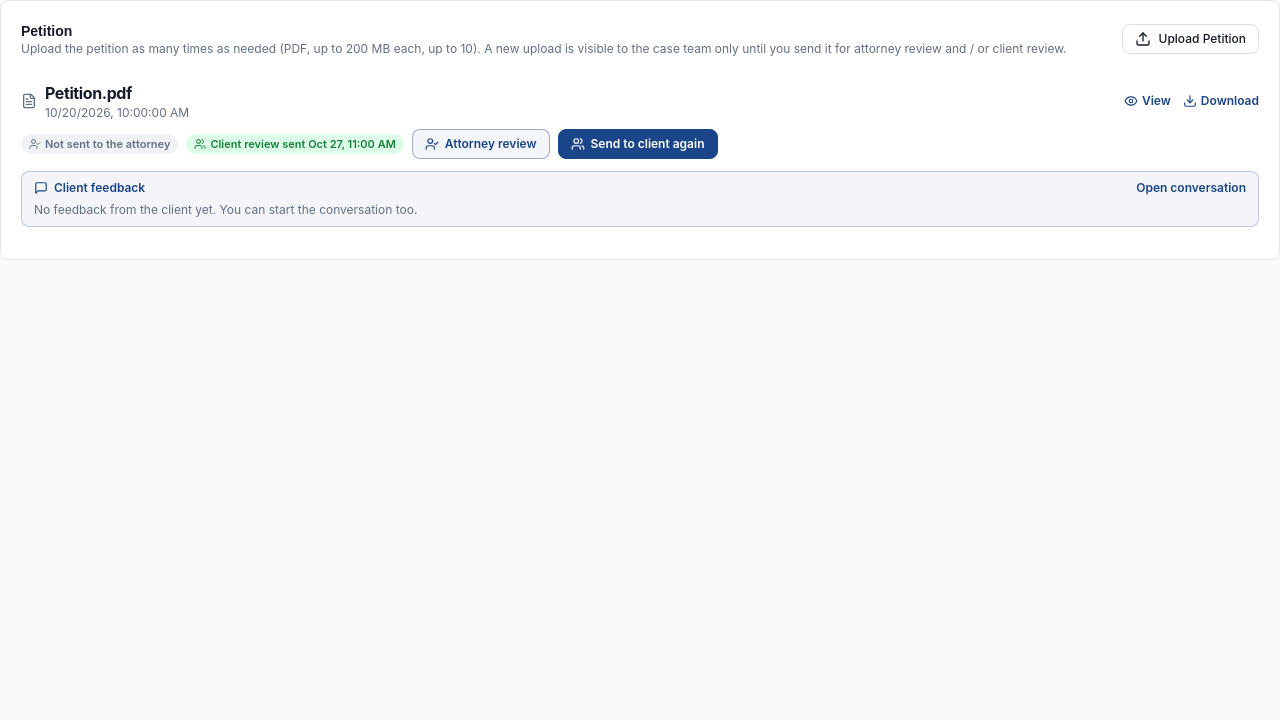
Test: PetitionUploadPanel › a client's message arriving live refreshes the row and appears in the open conversation
The image size is (1280, 720).
Step 1. Click the button with aria-label "Open the feedback conversation for Petition.pdf" → [100, 188], box x1=21 y1=171 x2=1259 y2=227
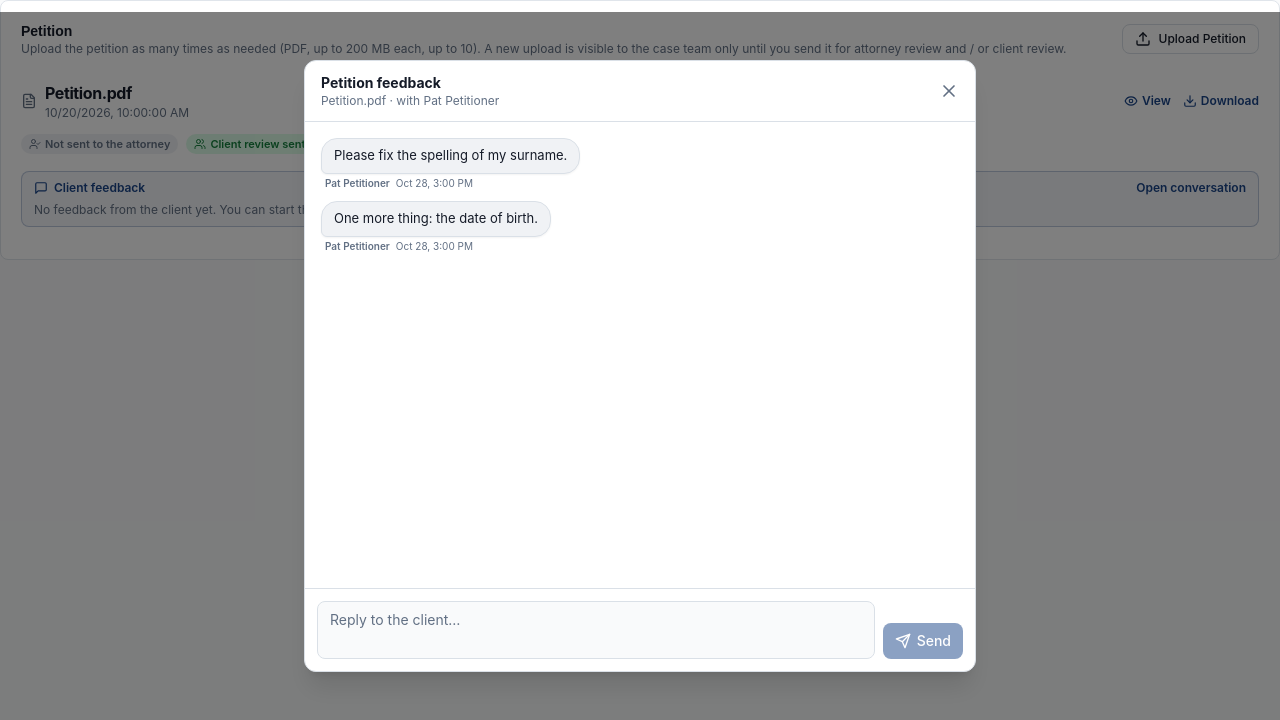
Check: the text "Please fix the spelling of my surname." is shown, box x1=321 y1=138 x2=580 y2=174
Check: the text "One more thing: the date of birth." is shown, box x1=321 y1=201 x2=551 y2=237
